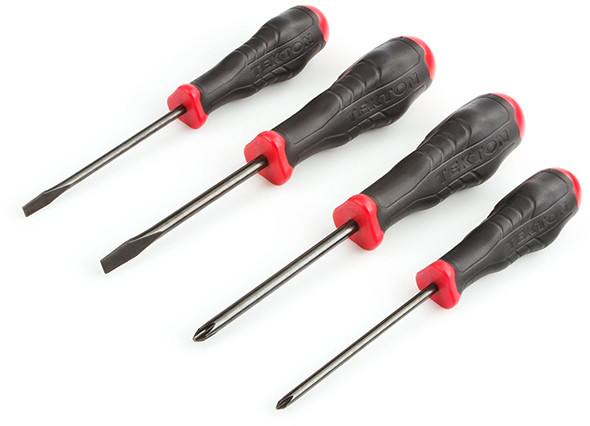screwdriver: (191, 92, 525, 343), (101, 34, 436, 276), (274, 161, 583, 411), (22, 1, 329, 219)
